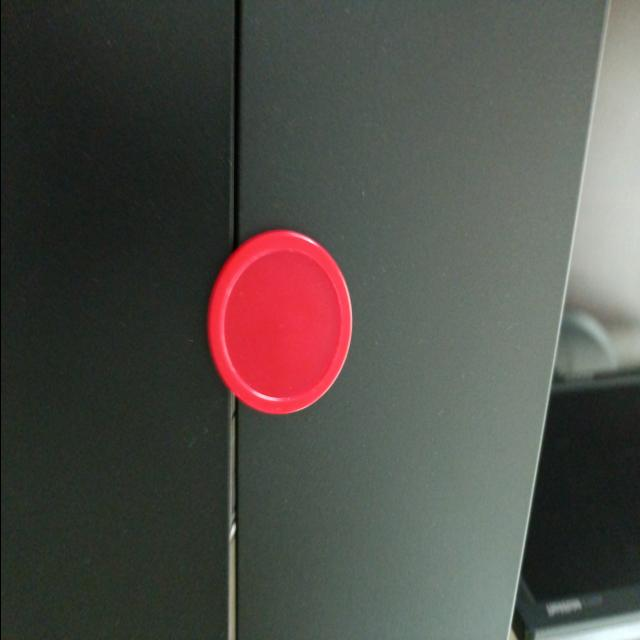chip: (203, 225, 355, 420)
